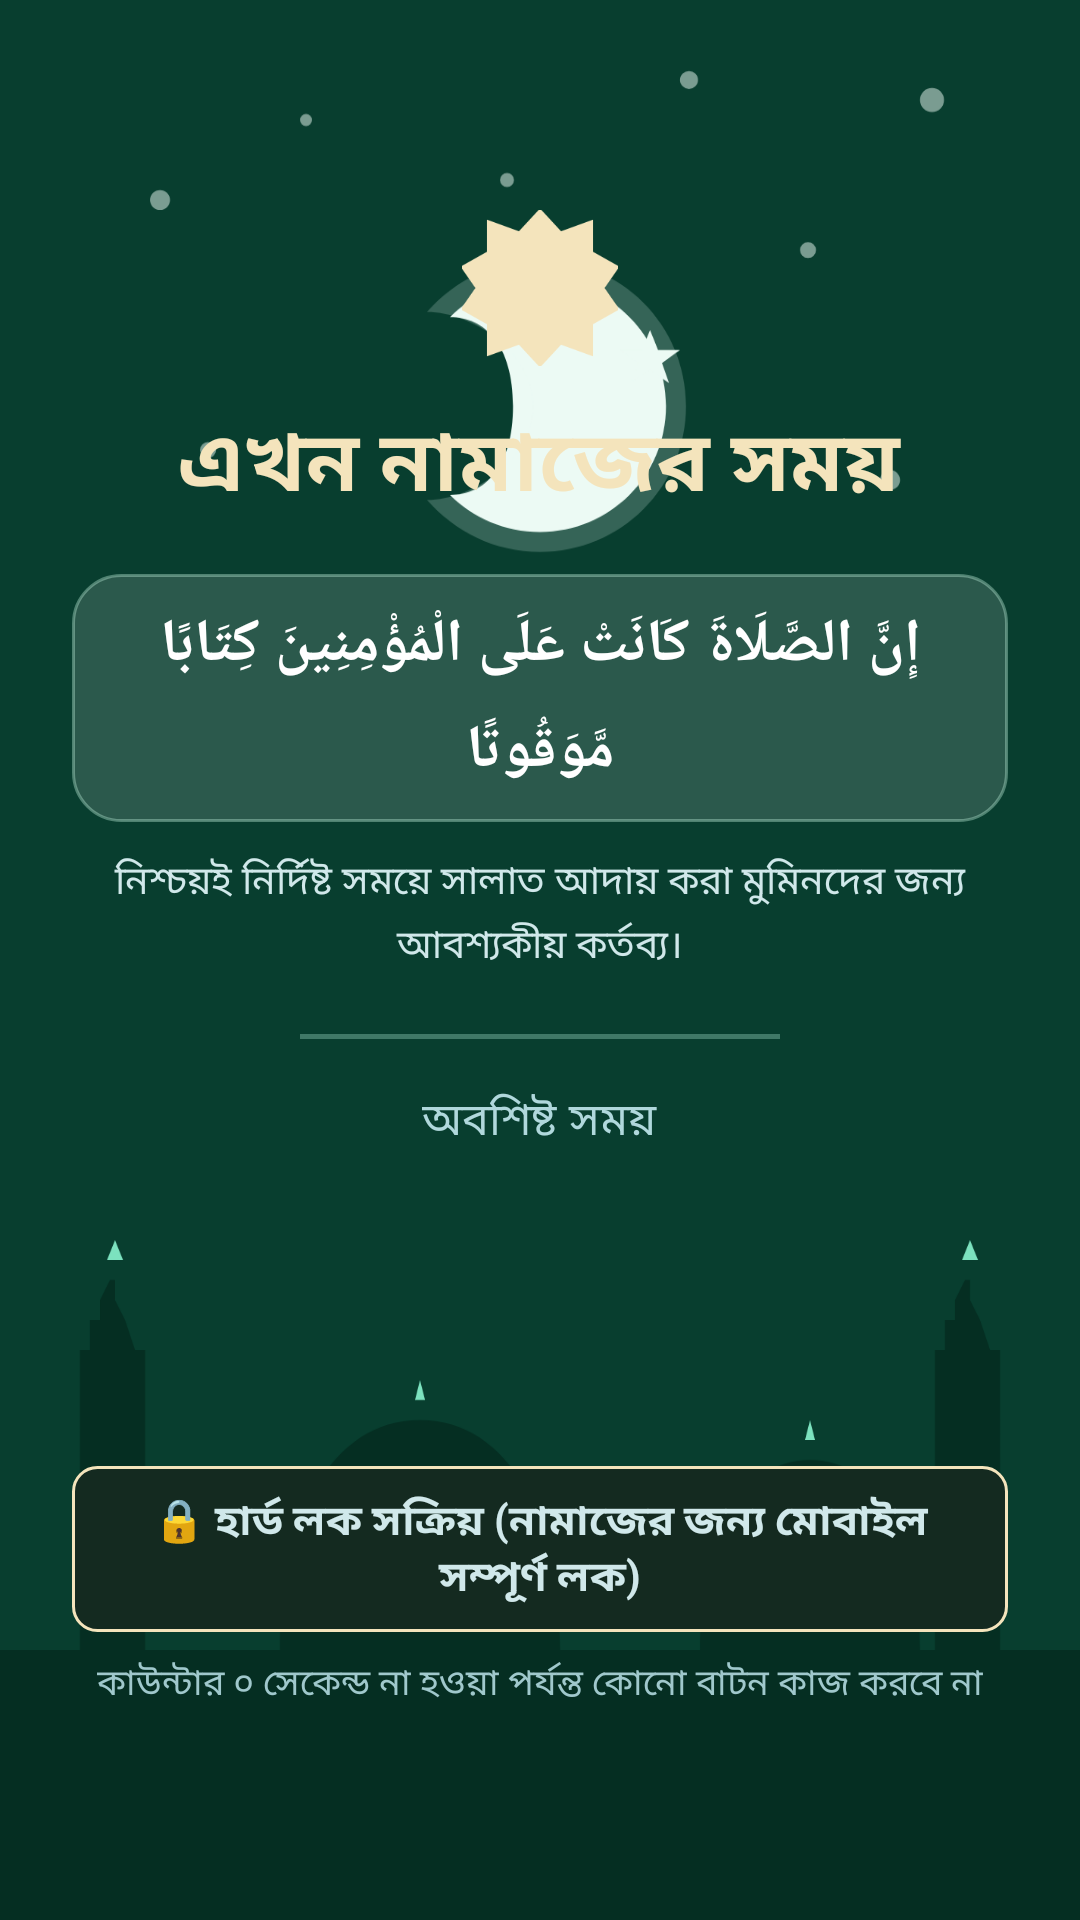

Icon bounding boxes for this 1080x1920 phone screenshot, format [x1,y1,x2,y2]:
Islamic Star: [462,210,618,366]
